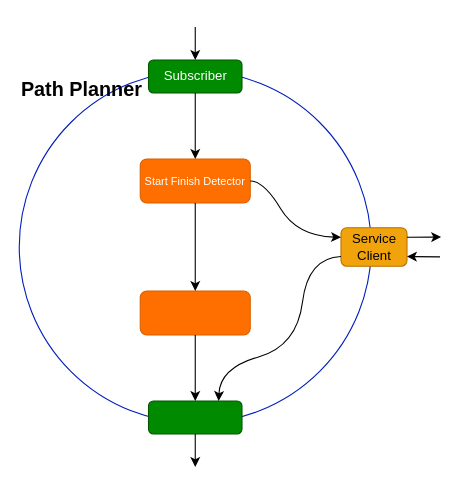
Image size: 470x495. Some labels were removed from this diagram. The centre of each missing label's shape, as x and y in pixels:
"Exploration Algorithm" goes at [194,312].
"Publisher" goes at [194,417].
